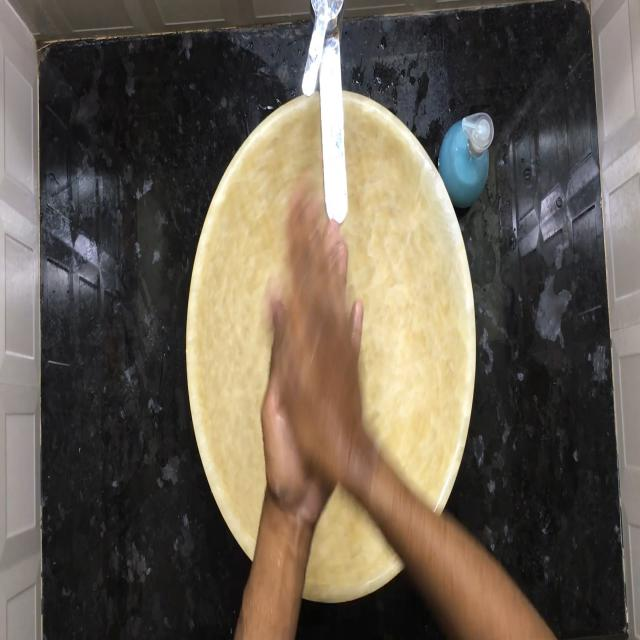step_1: (255, 205, 368, 516)
